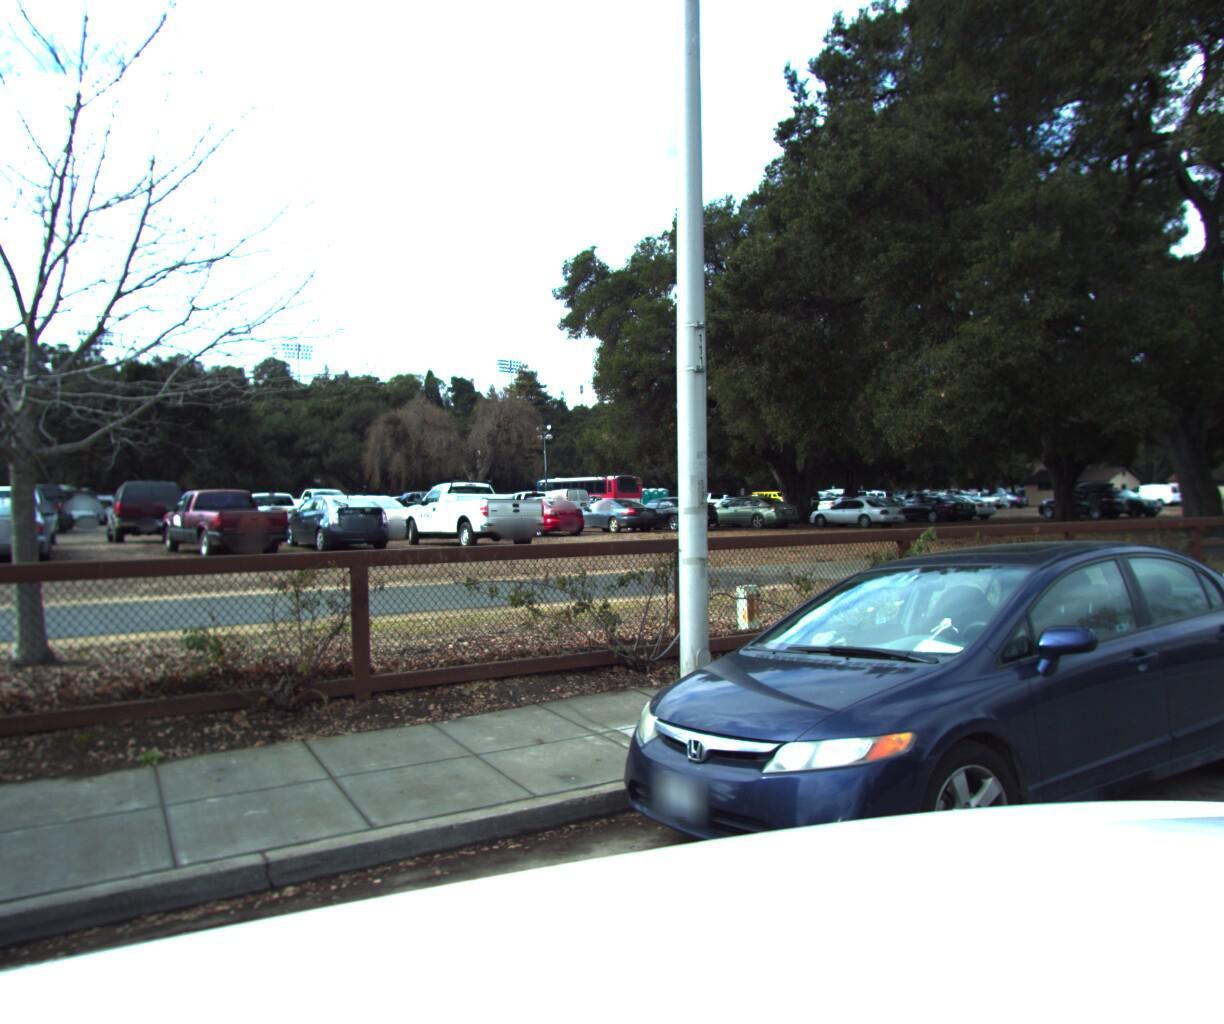car: (549, 519, 1224, 982), (1170, 451, 1224, 757)
